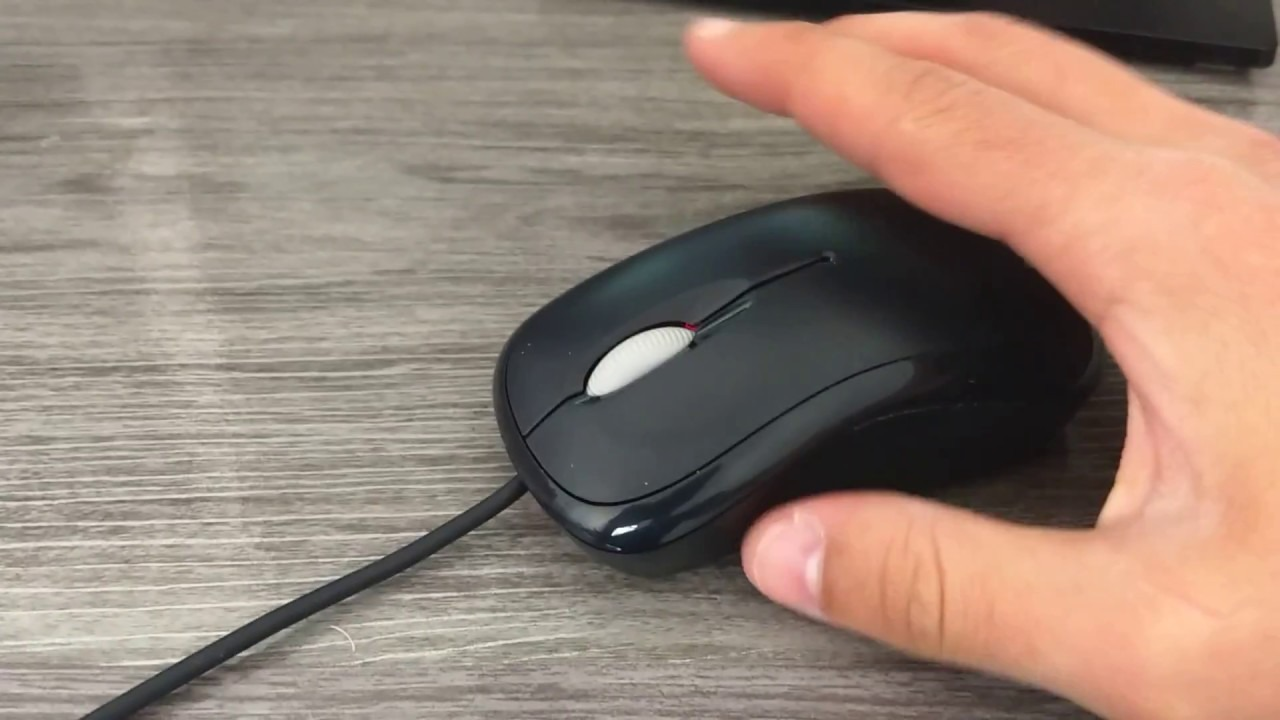mouse: (457, 142, 1121, 616)
